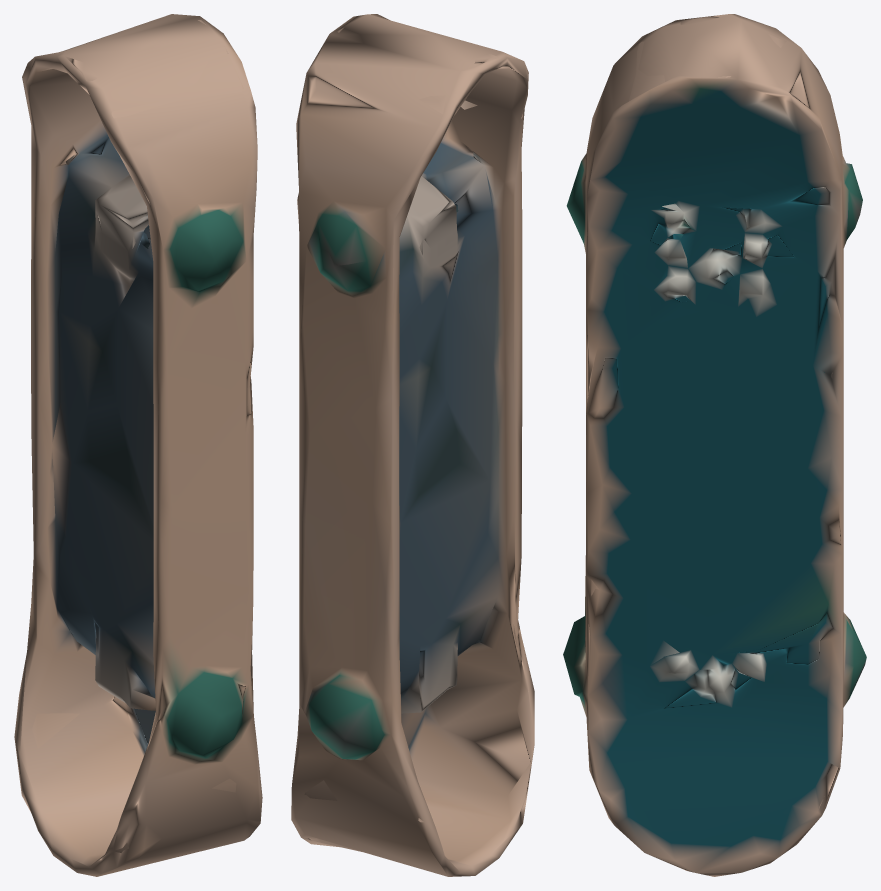
File: gen3d-skateboard-lod0.glb
3 renders of one model, left to right at view 1: azimuth 30°, elevation 25°; view 2: azimuth 150°, elevation 25°; view 3: azimuth 270°, elevation 25°, orthographic.
Visible parts, largest first — view 1: part_0; view 2: part_0; view 3: part_0.
Boxes of the visible parts, x1,y1,x2,y2 form: part_0: (14, 14, 262, 876); part_0: (291, 14, 534, 876); part_0: (563, 14, 866, 876).
Size of the model in its own units: 0.1943 by 0.9972 by 0.3436.
